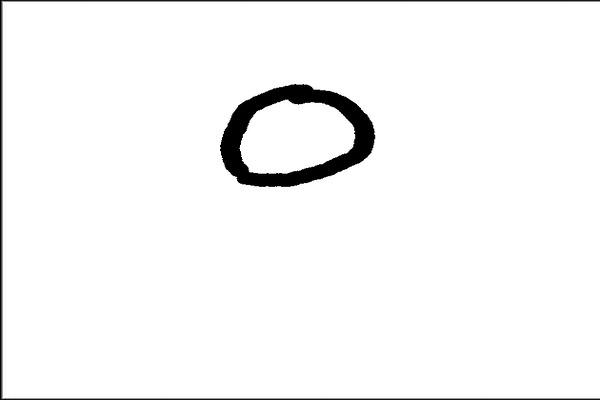O: (212, 73, 385, 198)
